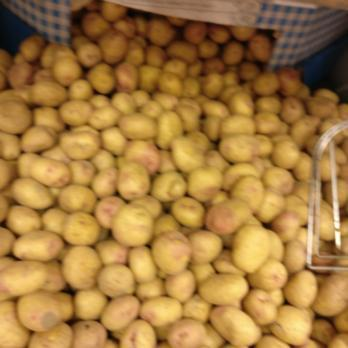Floury potato: (3, 103, 348, 348), (0, 42, 265, 106), (79, 8, 187, 43), (248, 70, 340, 89)
